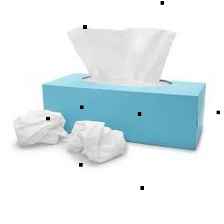book: (37, 68, 211, 154)
tissue: (61, 19, 181, 88), (59, 115, 132, 167), (8, 103, 71, 152)
